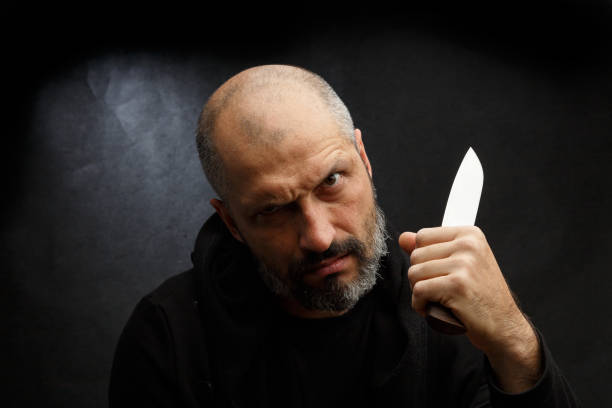knife: (426, 146, 485, 333)
